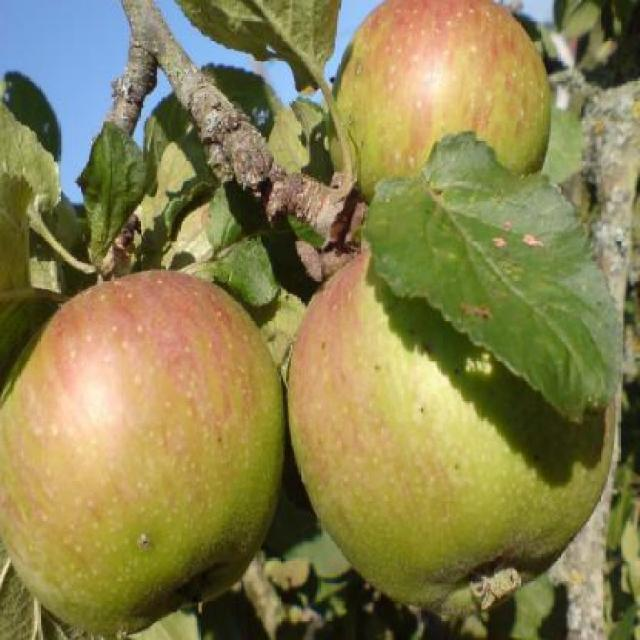Apple pie: (284, 247, 618, 624), (0, 263, 289, 612), (326, 0, 552, 205)
